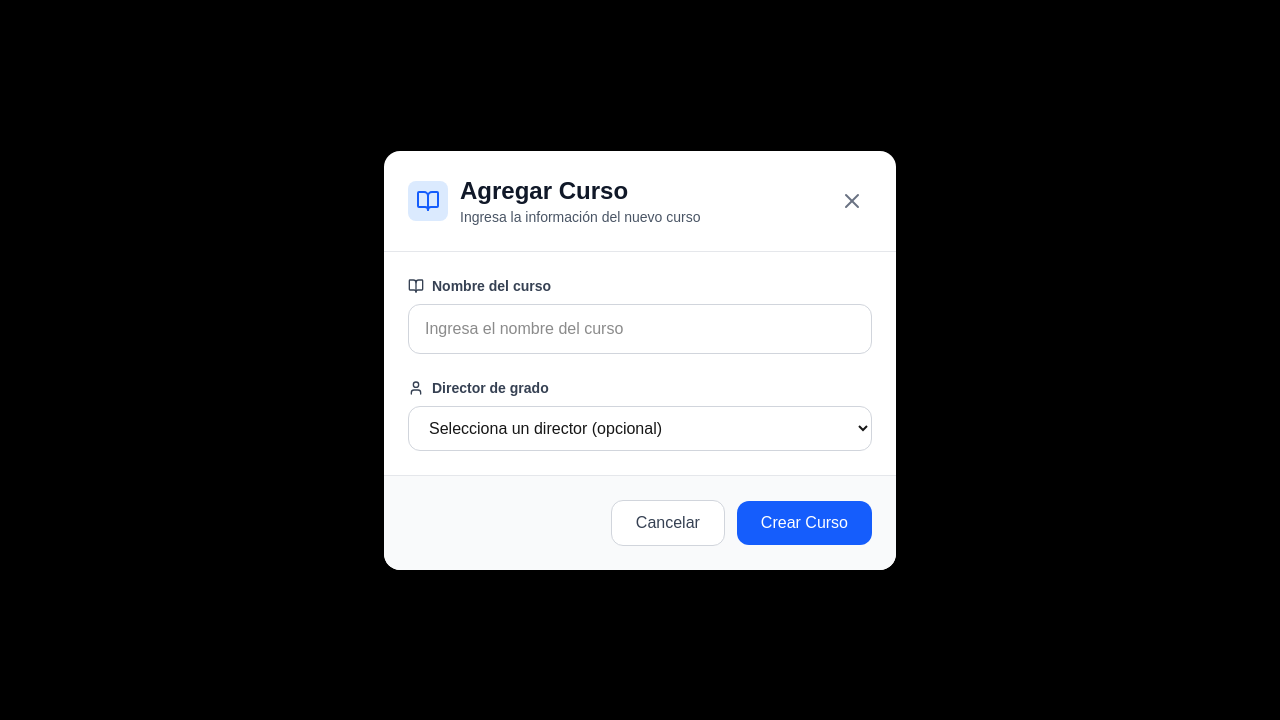
Test: CourseModal Component › shows validation error for invalid course name
In the field with placeholder "Ingresa el nombre del curso": (640, 328) [408, 304, 872, 354], type "Curso@123"
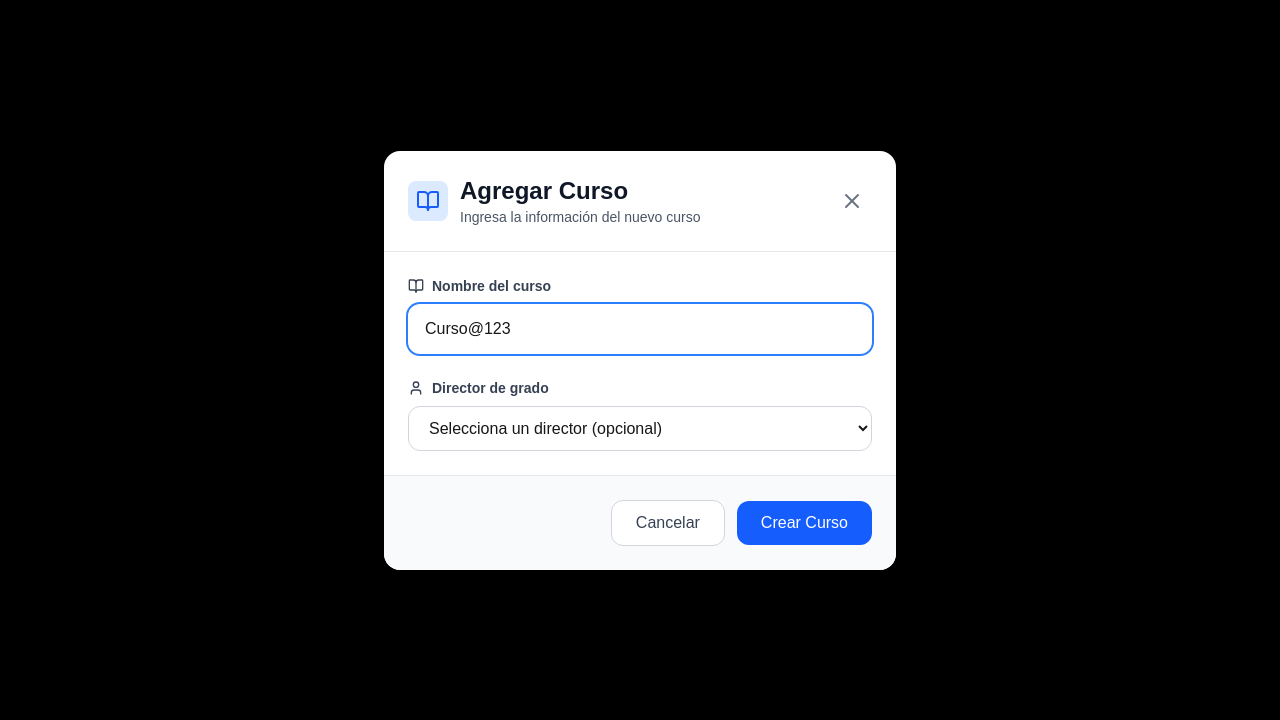
Click the button "Crear Curso": (804, 522) [737, 500, 872, 544]
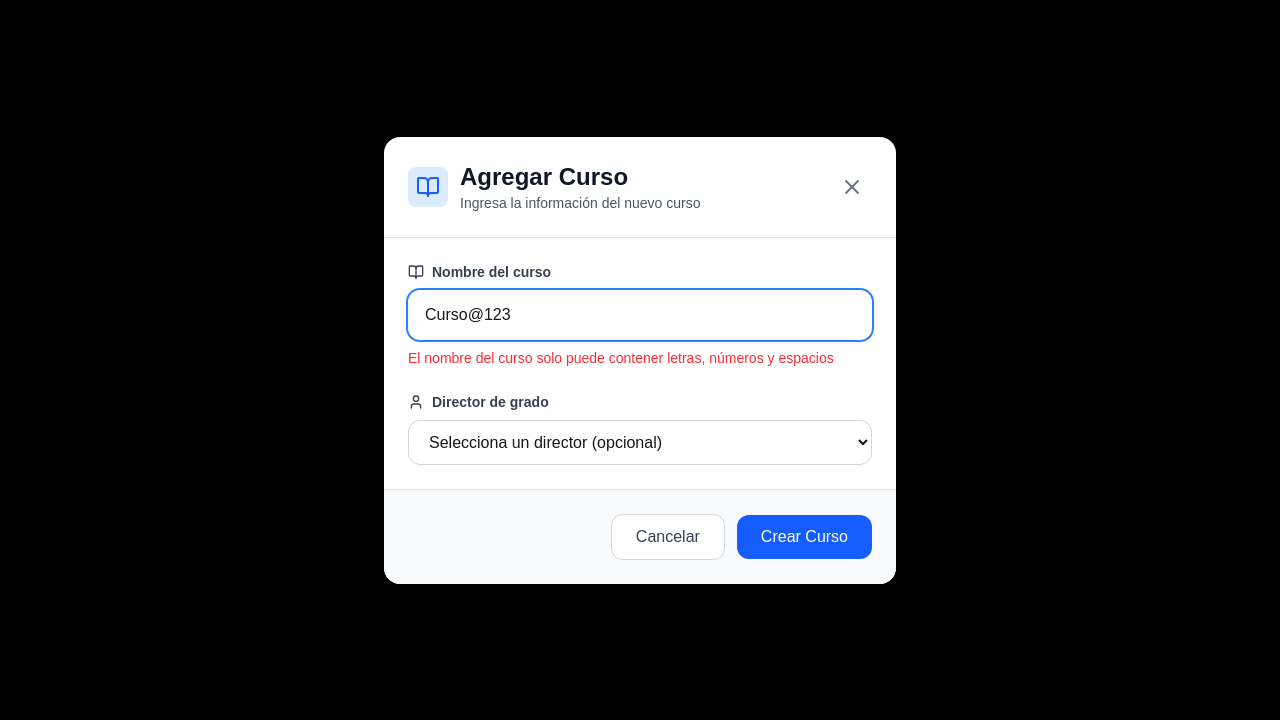
expect the text "El nombre del curso solo puede contener letras, números y espacios" is shown: met, box [408, 348, 872, 368]
